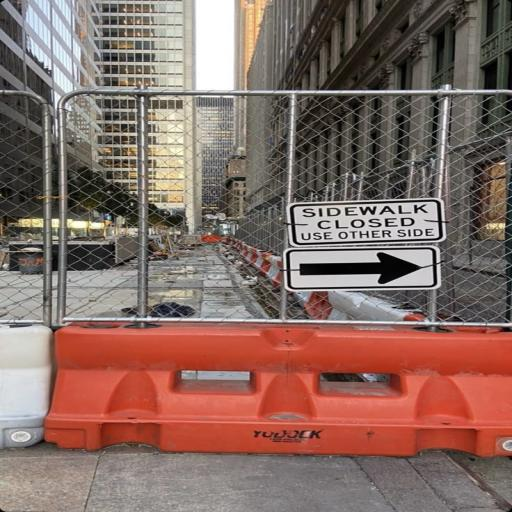bus_stop: (2, 86, 512, 326), (0, 90, 57, 325)
